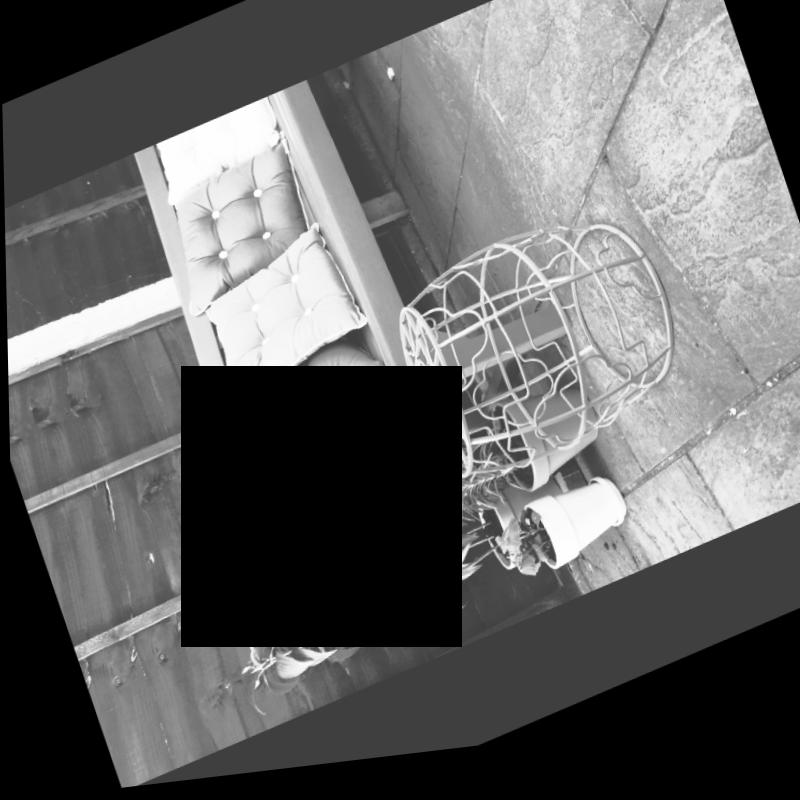pillow: (178, 213, 372, 420), (144, 134, 329, 331), (210, 353, 415, 524), (150, 100, 289, 211)
